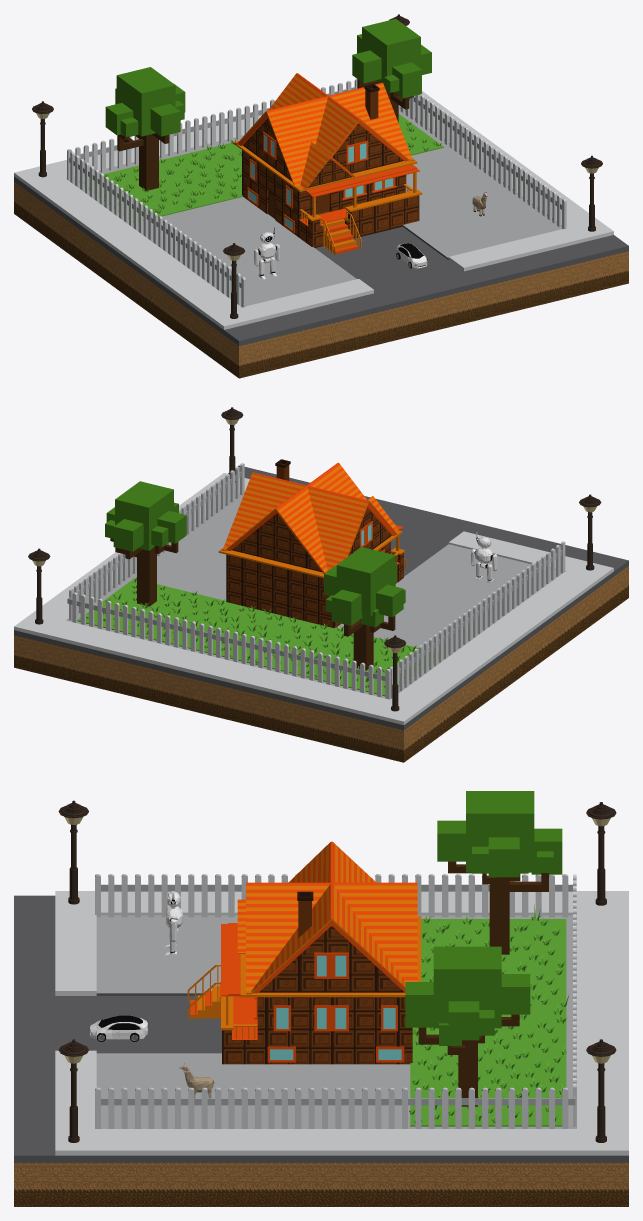
The picture shows the model from 3 angles, top to bottom: view 1: azimuth 30°, elevation 25°; view 2: azimuth 150°, elevation 25°; view 3: azimuth 270°, elevation 25°; orthographic projection. The views are drawn at different scales.
Parts seen in each view (by area): view 1: Cube.004, Cube, OBJRANDOM_PLATZEEBOT, VEHICLES_TESLA; view 2: Cube.004, Cube, OBJRANDOM_PLATZEEBOT; view 3: Cube.004, Cube, VEHICLES_TESLA, OBJRANDOM_PLATZEEBOT.
Part boxes in pixels (x1,y1,x2,y2): Cube.004: (14,14,628,378); Cube: (233,73,422,255); OBJRANDOM_PLATZEEBOT: (254,227,280,279); VEHICLES_TESLA: (396,243,427,268); Cube.004: (14,407,628,762); Cube: (218,459,406,627); OBJRANDOM_PLATZEEBOT: (471,532,497,582); Cube.004: (14,791,628,1206); Cube: (187,841,421,1064); VEHICLES_TESLA: (90,1015,148,1041); OBJRANDOM_PLATZEEBOT: (164,891,183,955).
Size of the model in its own units: 4000 by 1609 by 4000.
29 materials, 4 textured.
